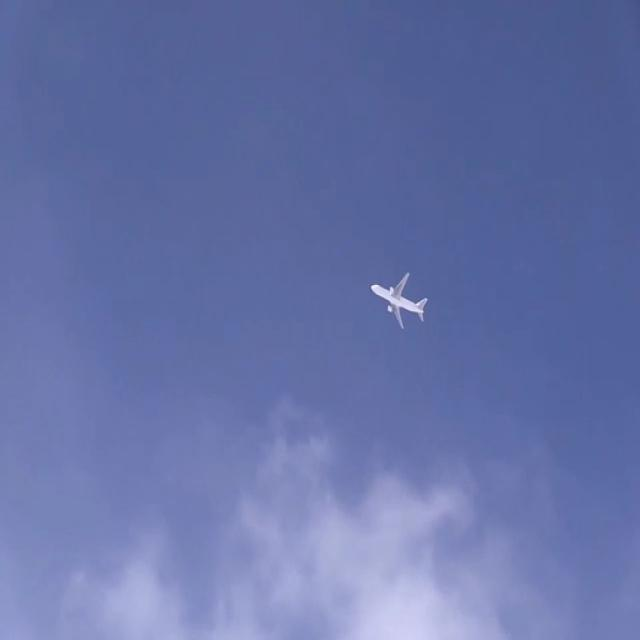AirPlane: (360, 256, 439, 342)
